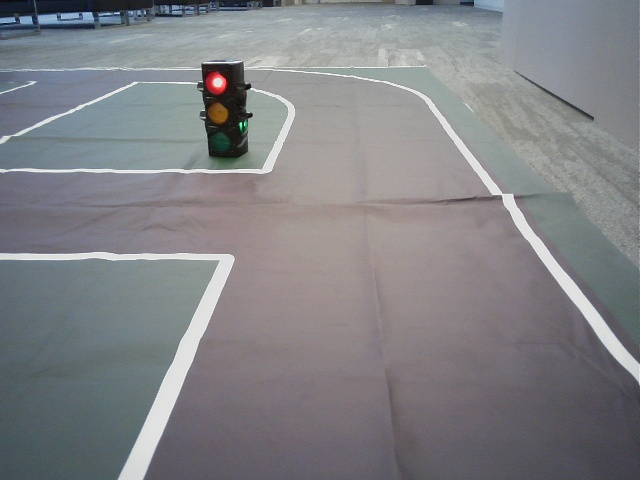red: (204, 68, 234, 153)
